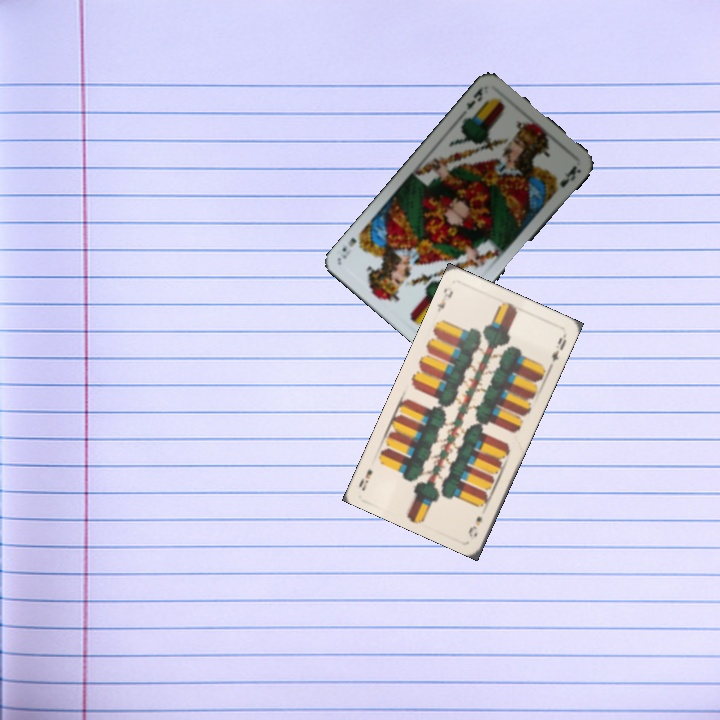E9: (433, 284, 456, 315), (464, 512, 485, 539)
EK: (462, 82, 487, 113)
